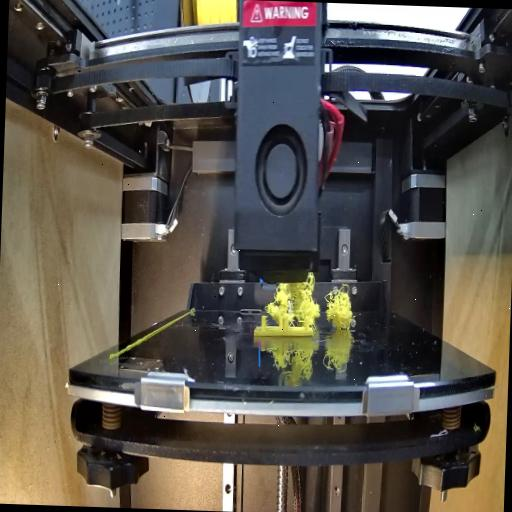spaghetti: (267, 272, 320, 324), (322, 282, 356, 334)
